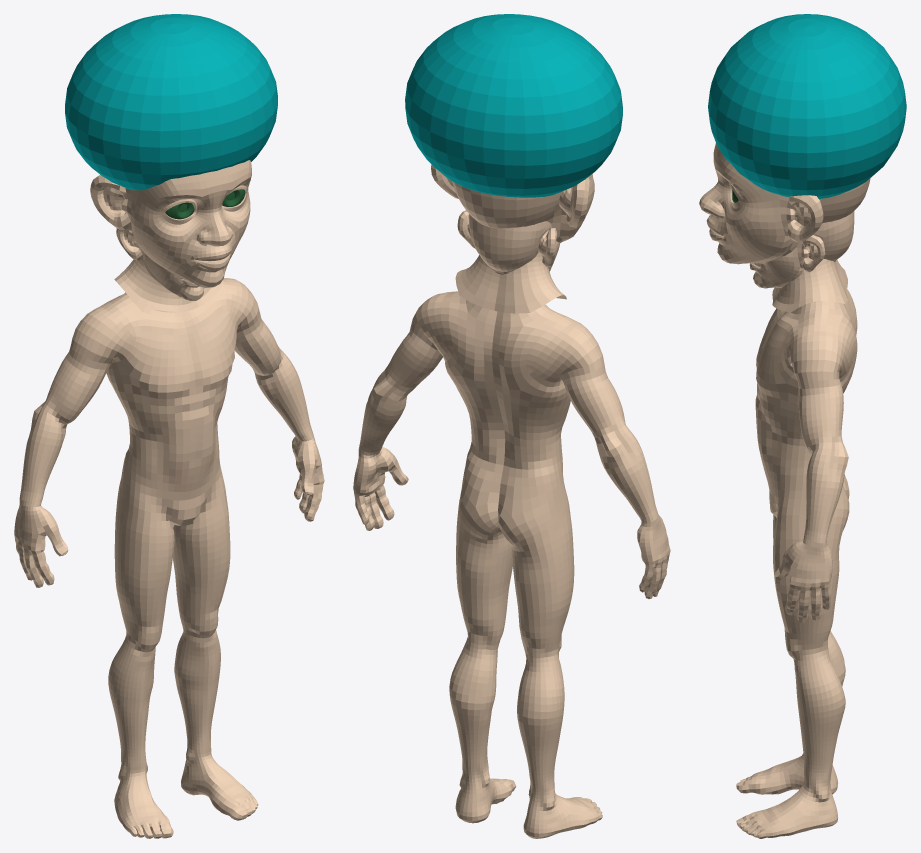
Rendered from sw_adventurer_base_v001.glb.
3 renders of one model, left to right at view 1: azimuth 30°, elevation 25°; view 2: azimuth 150°, elevation 25°; view 3: azimuth 270°, elevation 25°, orthographic. The views are drawn at different scales.
Visible parts, largest first — view 1: sw_base_body, sw_base_hair, sw_base_head; view 2: sw_base_body, sw_base_hair, sw_base_head; view 3: sw_base_body, sw_base_hair, sw_base_head.
Boxes of the visible parts, bbox=[...] form: sw_base_body: bbox=[14, 227, 324, 838]; sw_base_hair: bbox=[65, 14, 277, 190]; sw_base_head: bbox=[90, 160, 251, 311]; sw_base_body: bbox=[353, 210, 670, 838]; sw_base_hair: bbox=[405, 14, 622, 197]; sw_base_head: bbox=[431, 164, 594, 313]; sw_base_body: bbox=[736, 211, 857, 838]; sw_base_hair: bbox=[708, 14, 906, 198]; sw_base_head: bbox=[699, 143, 870, 312].
Size of the model in its own units: 0.6595 by 1.65 by 0.3968.
